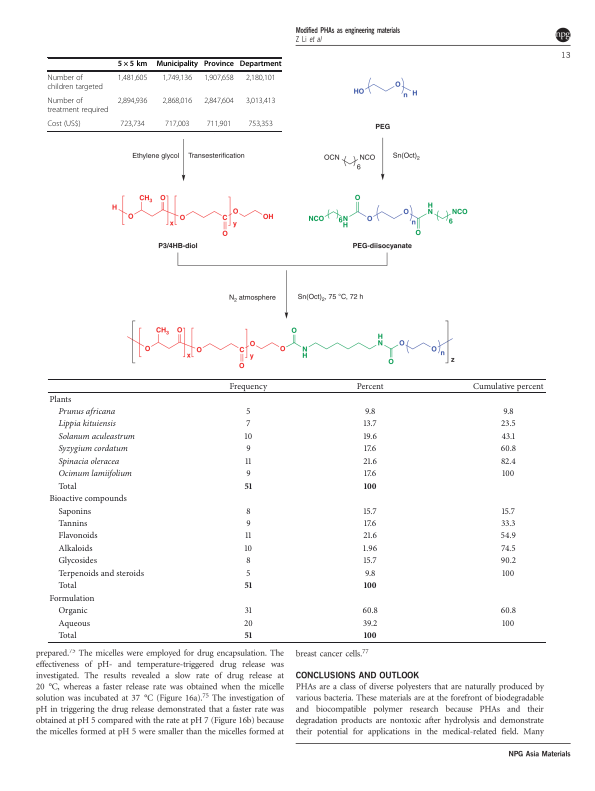borderless: (46, 377, 546, 642), (46, 56, 282, 131)
cell: (47, 96, 109, 114), (47, 73, 104, 91), (57, 568, 145, 579), (48, 493, 128, 504), (57, 431, 136, 442), (57, 468, 133, 479), (472, 381, 545, 392), (57, 444, 129, 454), (57, 456, 120, 467), (57, 406, 116, 417), (57, 419, 117, 429), (48, 593, 95, 604), (229, 381, 268, 392), (57, 531, 99, 541), (57, 556, 98, 566), (57, 543, 94, 554), (155, 60, 199, 69), (239, 60, 282, 69), (57, 618, 91, 629), (57, 605, 89, 616), (57, 506, 92, 516), (57, 518, 88, 529), (161, 73, 193, 83), (203, 73, 235, 83), (356, 381, 385, 392), (47, 119, 82, 128), (117, 73, 148, 83), (245, 73, 276, 83), (203, 60, 235, 69), (161, 96, 193, 105), (203, 96, 235, 105), (117, 60, 148, 69), (117, 96, 148, 105), (245, 96, 276, 105), (119, 119, 146, 128), (247, 119, 274, 128), (48, 394, 72, 404), (164, 119, 190, 128), (206, 119, 232, 128), (57, 481, 78, 492), (57, 630, 78, 641), (57, 581, 78, 591), (500, 456, 517, 467), (500, 543, 517, 554), (362, 605, 379, 616), (500, 605, 517, 616), (362, 431, 378, 442), (362, 456, 378, 467), (500, 518, 516, 529), (362, 543, 378, 554), (362, 618, 378, 629), (500, 419, 517, 429), (500, 444, 517, 454), (500, 531, 517, 541), (500, 556, 517, 566), (501, 431, 516, 442), (362, 531, 378, 541), (363, 468, 377, 479), (501, 468, 515, 479), (363, 518, 377, 529), (501, 568, 515, 579), (501, 618, 515, 629), (363, 419, 378, 429), (363, 506, 378, 516), (501, 506, 516, 516), (363, 556, 378, 566), (502, 406, 515, 417), (363, 444, 377, 454), (363, 630, 378, 639), (364, 406, 376, 417), (364, 568, 376, 579), (243, 618, 254, 629), (363, 481, 378, 489), (363, 581, 378, 589), (244, 431, 253, 442), (244, 543, 253, 554), (244, 605, 253, 616), (244, 456, 252, 467), (244, 630, 253, 639), (244, 531, 252, 541), (245, 468, 252, 479), (245, 518, 252, 529), (244, 481, 253, 489), (244, 581, 253, 589), (245, 444, 252, 454), (245, 506, 252, 516), (245, 556, 252, 566), (245, 406, 251, 417), (245, 568, 251, 579), (245, 419, 251, 429)
